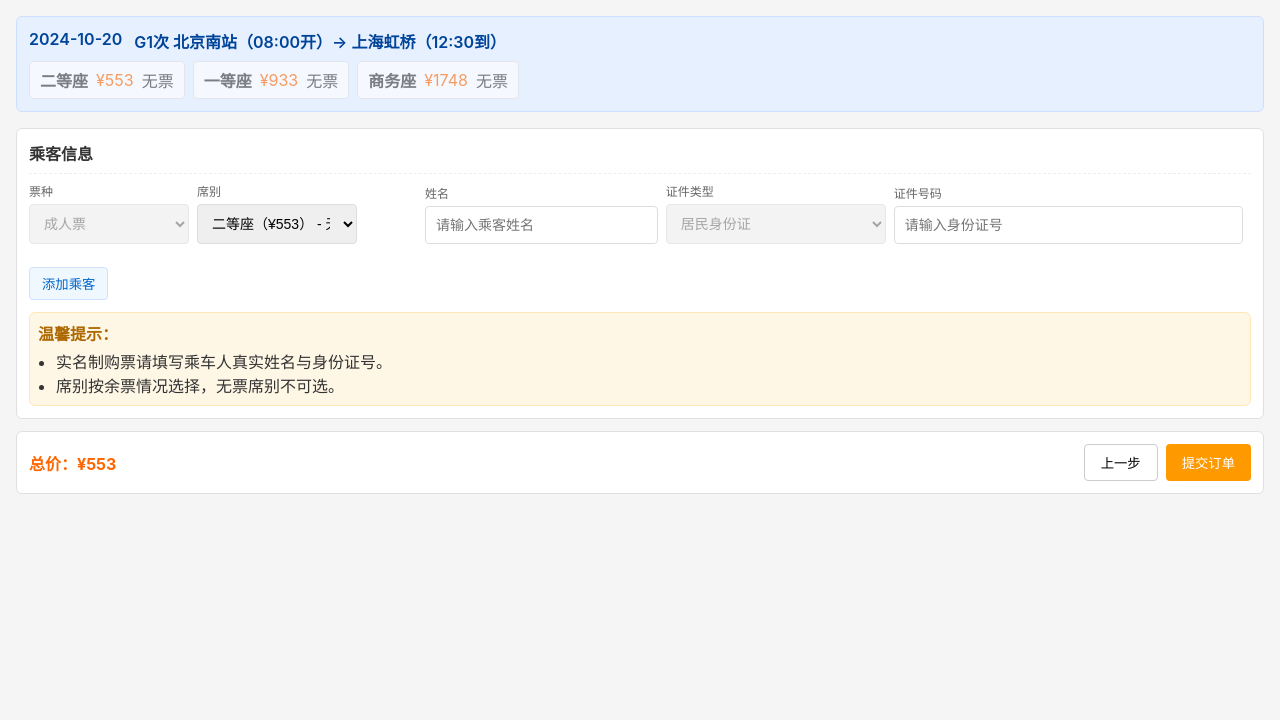
it: P002_Booking 组件测试 - 乘客添加与删除 › 添加乘客会增加表单行，删除按钮生效
The width and height of the screenshot is (1280, 720).
Expected: the number of fields with placeholder "请输入乘客姓名" is 1, left=425, top=206, right=658, bottom=244
Click the button "添加乘客" at (69, 284), box left=29, top=267, right=108, bottom=300
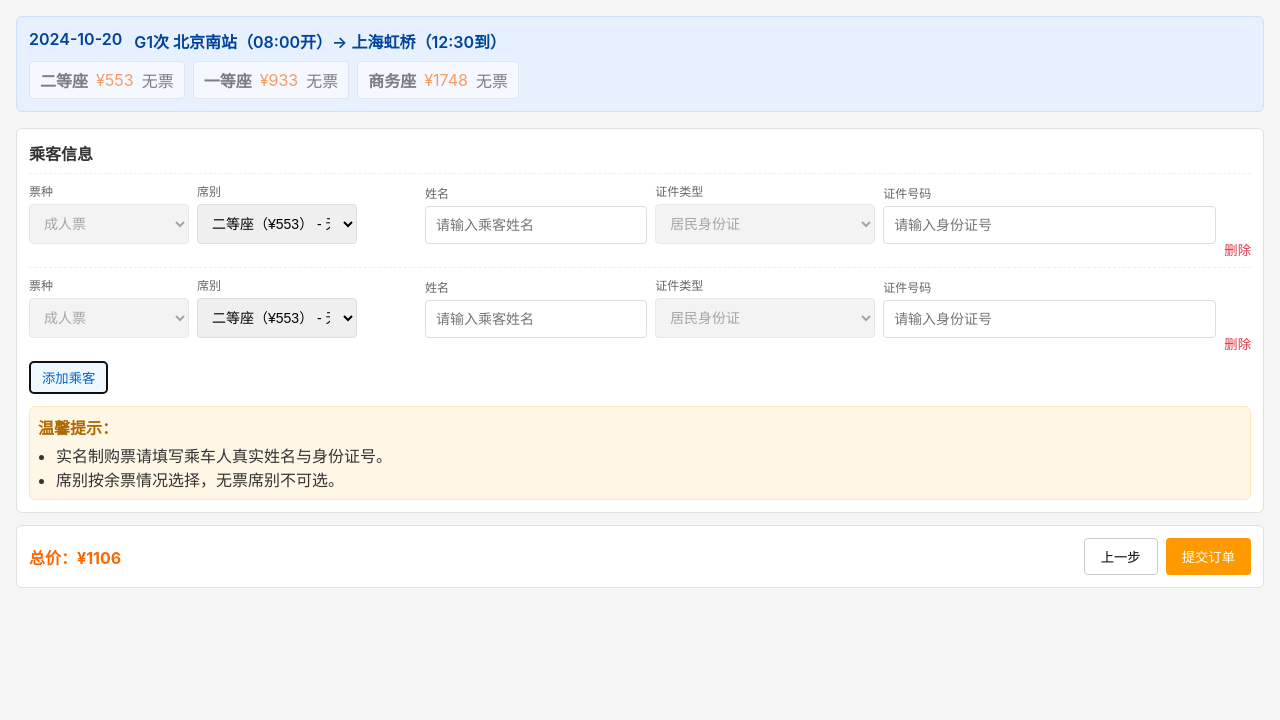
Result: the number of fields with placeholder "请输入乘客姓名" is 2 at left=425, top=206, right=647, bottom=244; left=425, top=300, right=647, bottom=338
Click the 1st button "删除" at (1238, 250), box left=1224, top=240, right=1251, bottom=259
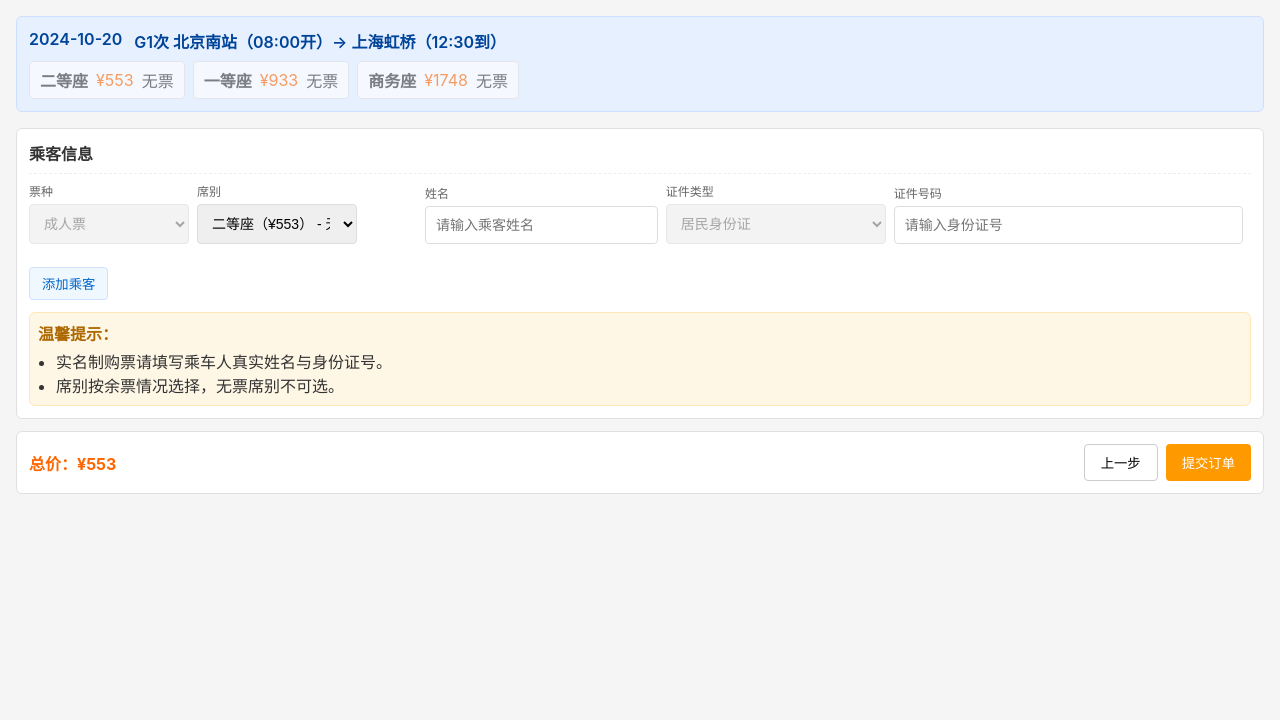
Result: the number of fields with placeholder "请输入乘客姓名" is 1 at left=425, top=206, right=658, bottom=244
